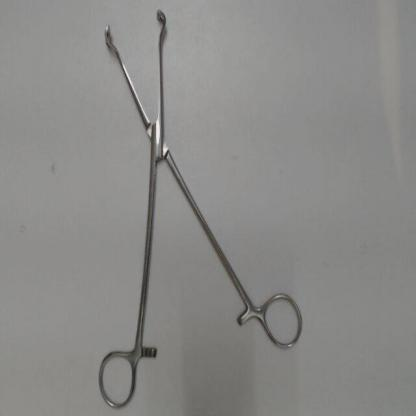8 Babcock Tissue Forceps: (93, 5, 311, 413)
